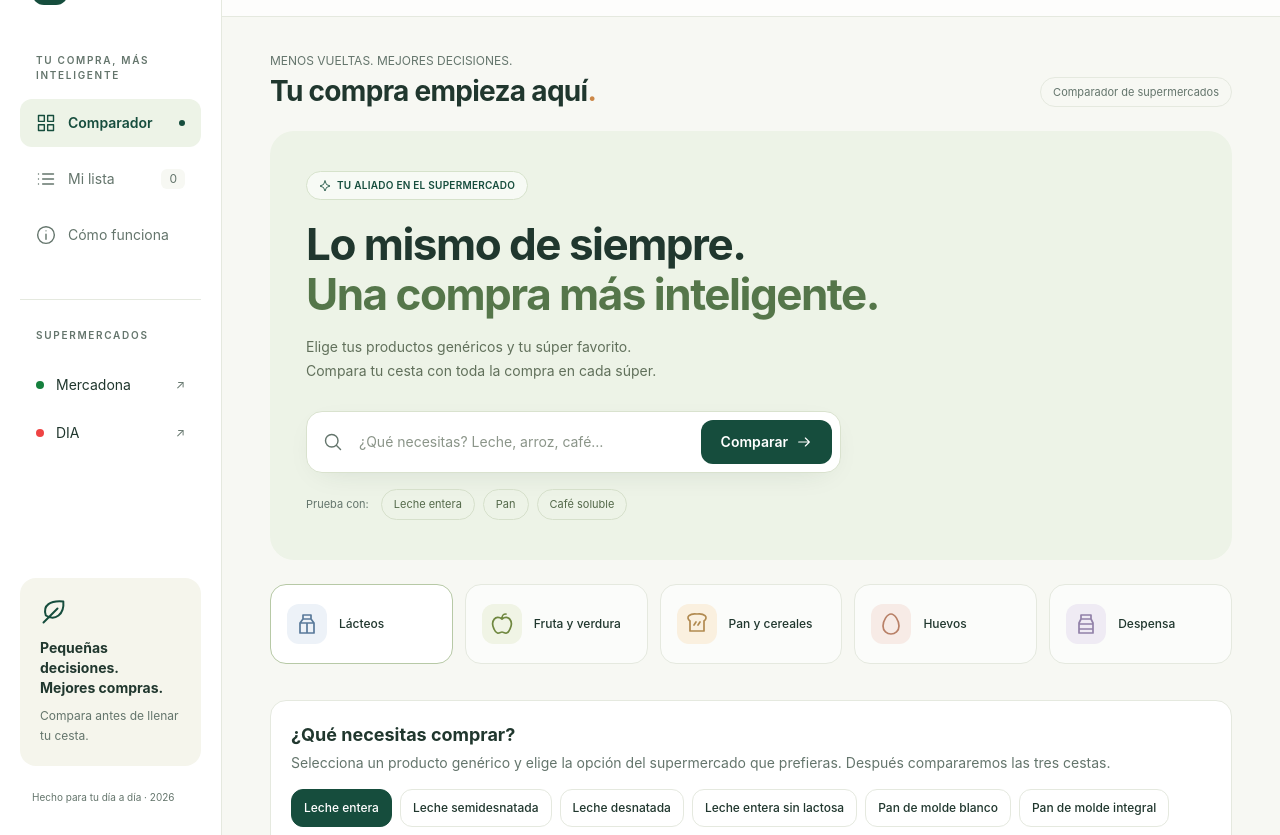
busca productos y permite filtrar por supermercado
The width and height of the screenshot is (1280, 835).
Type "arroz basmati" into the field named "Buscar productos" at (522, 442), box [351,422,693,462]
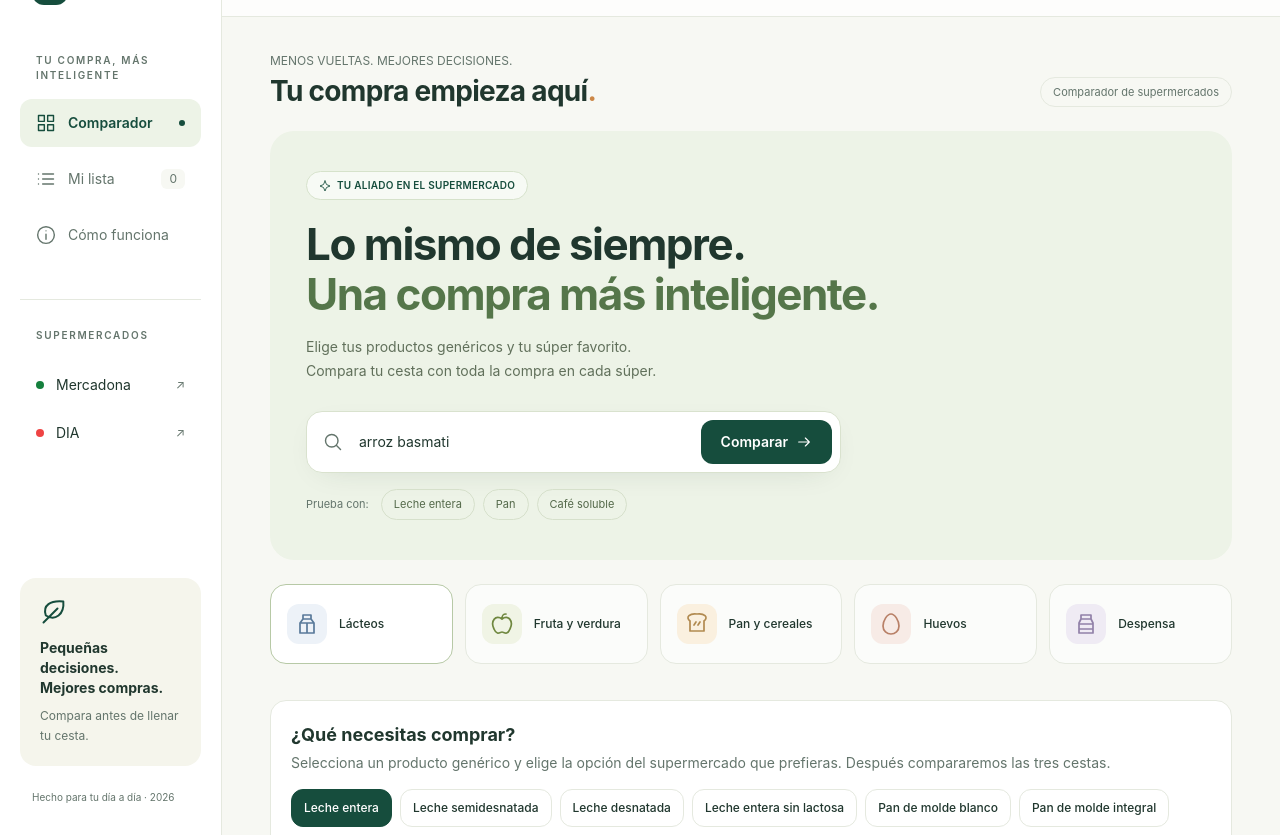
Click the button "Comparar" at (766, 442), box [701,420,832,464]
(page scrolled)
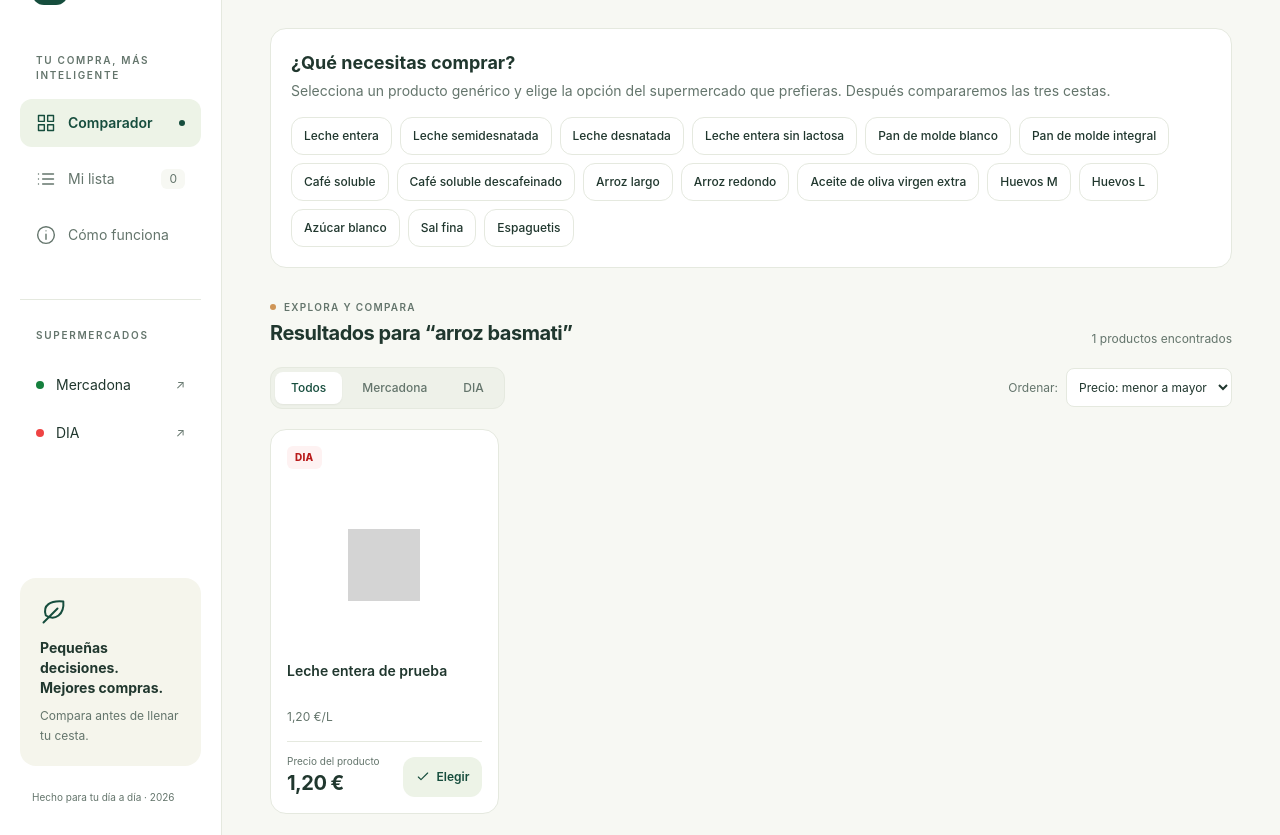
Expected: the heading "Leche entera de prueba" is shown, [287,662,447,679]
Click the button "Mercadona" at (395, 388), box [346,372,443,404]
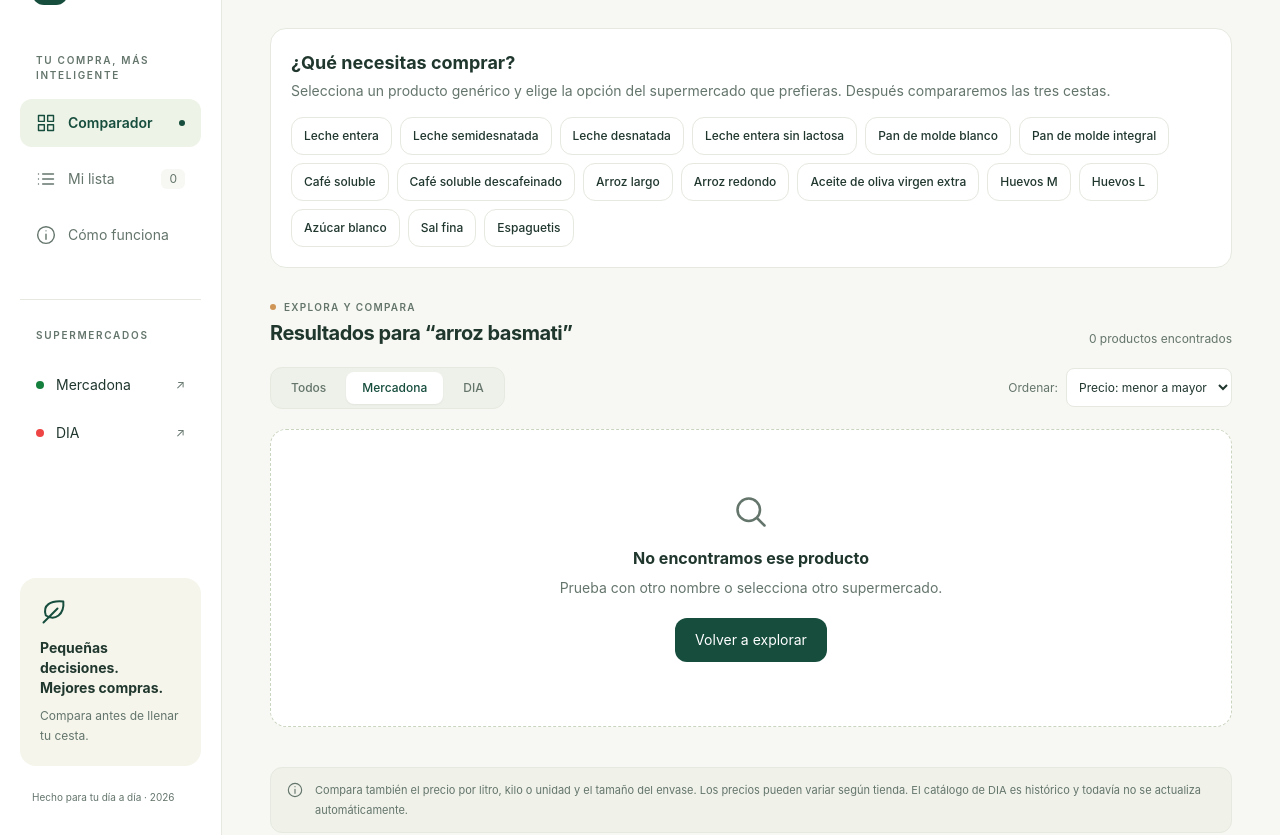
Expected: the heading "No encontramos ese producto" is shown, [633,548,869,568]
